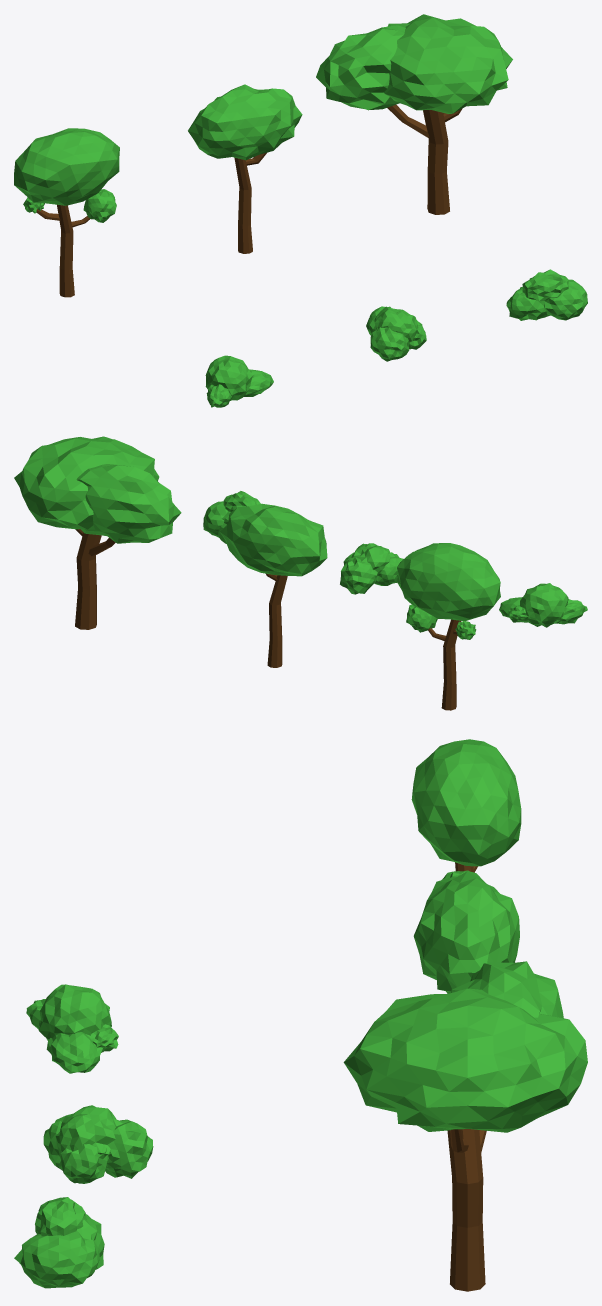
File: drzewka_krzaki.fbx
The picture shows the model from 3 angles, top to bottom: view 1: azimuth 30°, elevation 25°; view 2: azimuth 150°, elevation 25°; view 3: azimuth 270°, elevation 25°; orthographic projection. The views are drawn at different scales.
Parts seen in each view (by area): view 1: drzewo_3_liscie, drzewo_1_liscie, drzewo_2_liscie, krzak, drzewo_3, krzak_2, krzak_3, drzewo_1, drzewo_2; view 2: drzewo_3_liscie, drzewo_1_liscie, drzewo_2_liscie, krzak_3, krzak_2, drzewo_3, drzewo_1, drzewo_2, krzak; view 3: drzewo_3_liscie, drzewo_1_liscie, drzewo_2_liscie, krzak_2, krzak, krzak_3, drzewo_3.
Part boxes in pixels (left/top/right/bottom): drzewo_3_liscie: left=316, top=14, right=512, bottom=113; drzewo_1_liscie: left=14, top=128, right=119, bottom=222; drzewo_2_liscie: left=188, top=84, right=302, bottom=160; krzak: left=506, top=269, right=587, bottom=320; drzewo_3: left=387, top=104, right=462, bottom=214; krzak_2: left=366, top=306, right=426, bottom=361; krzak_3: left=205, top=355, right=273, bottom=407; drzewo_1: left=36, top=204, right=90, bottom=297; drzewo_2: left=234, top=152, right=266, bottom=253; drzewo_3_liscie: left=14, top=436, right=181, bottom=543; drzewo_1_liscie: left=397, top=543, right=500, bottom=639; drzewo_2_liscie: left=220, top=503, right=327, bottom=576; krzak_3: left=499, top=583, right=587, bottom=627; krzak_2: left=340, top=543, right=403, bottom=594; drzewo_3: left=75, top=529, right=115, bottom=629; drzewo_1: left=428, top=619, right=461, bottom=710; drzewo_2: left=266, top=573, right=287, bottom=667; krzak: left=203, top=491, right=260, bottom=543; drzewo_3_liscie: left=343, top=961, right=587, bottom=1132; drzewo_1_liscie: left=411, top=739, right=521, bottom=879; drzewo_2_liscie: left=413, top=871, right=519, bottom=993; krzak_2: left=43, top=1105, right=153, bottom=1183; krzak: left=14, top=1197, right=104, bottom=1288; krzak_3: left=26, top=984, right=118, bottom=1073; drzewo_3: left=447, top=1129, right=486, bottom=1291.
Bounding box in the file's own units: 5037 × 1962 × 3418.
